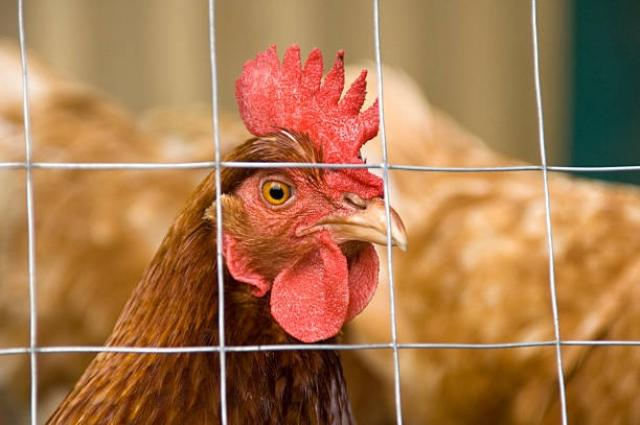Chicken: (47, 42, 410, 425)
